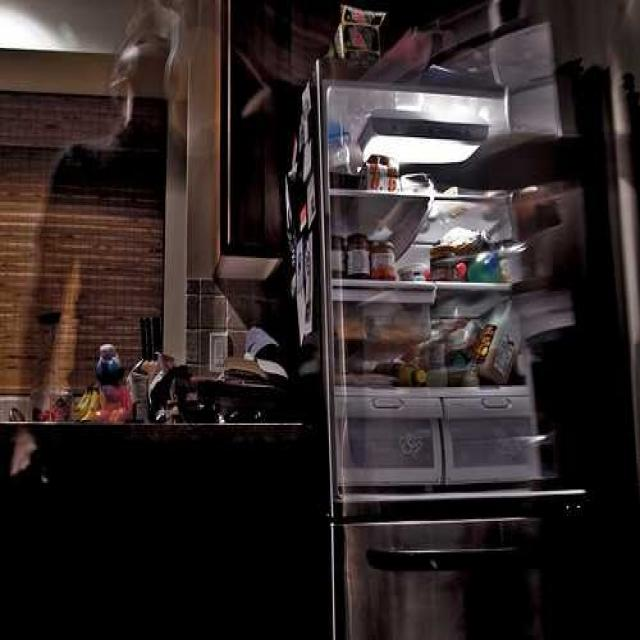refrigerator: (315, 56, 604, 638)
